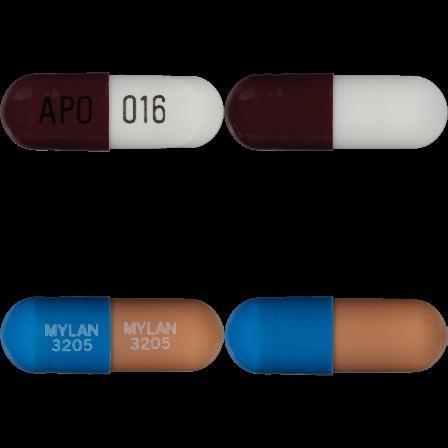61786-555: (0, 0, 224, 224)
